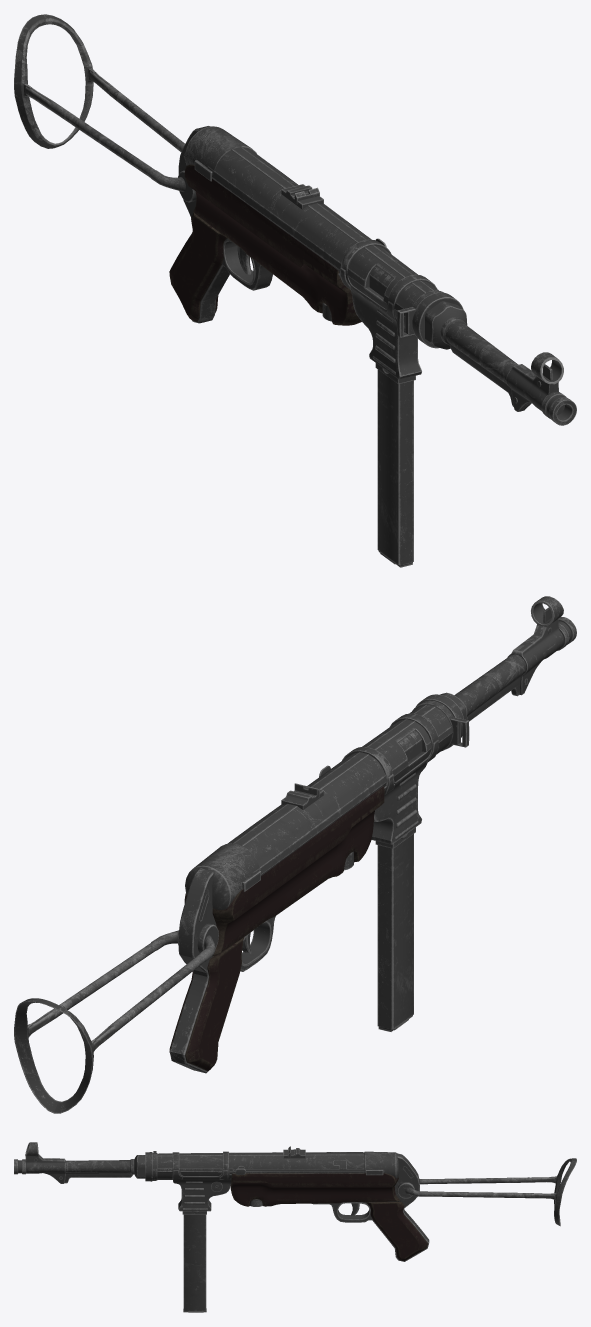
The model's file is Automatic_Rifle09.FBX.
The picture shows the model from 3 angles, top to bottom: view 1: azimuth 30°, elevation 25°; view 2: azimuth 150°, elevation 25°; view 3: azimuth 270°, elevation 25°; orthographic projection. The views are drawn at different scales.
Parts seen in each view (by area): view 1: Body, Magaz, Priklad1, Priklad2; view 2: Body, Magaz, Priklad1, Priklad2; view 3: Body, Magaz, Priklad1, Priklad2.
Part boxes in pixels (box(x1,y1,x2,y2)): Body: box(169, 126, 576, 425); Magaz: box(375, 363, 415, 567); Priklad1: box(25, 71, 196, 202); Priklad2: box(14, 14, 95, 148); Body: box(169, 596, 576, 1073); Magaz: box(375, 827, 415, 1031); Priklad1: box(28, 923, 218, 1050); Priklad2: box(14, 998, 95, 1113); Body: box(14, 1142, 429, 1261); Magaz: box(182, 1211, 206, 1312); Priklad1: box(397, 1177, 554, 1199); Priklad2: box(551, 1158, 576, 1226).
Bounding box in the file's own units: 0.0742 × 0.2841 × 0.8639.
